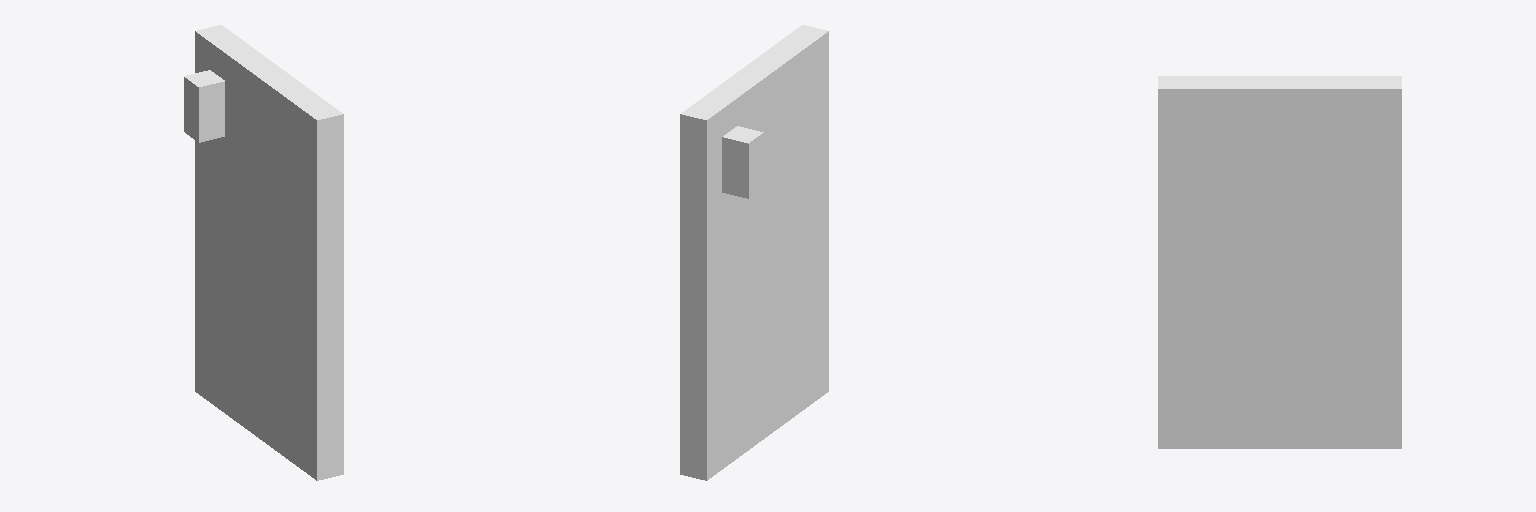
File: Kitchen_cabinets-8.obj
3 views of the same model, side by side, from view 1: azimuth 30°, elevation 25°; view 2: azimuth 150°, elevation 25°; view 3: azimuth 270°, elevation 25° (orthographic).
Parts seen in each view (by area): view 1: object 1; view 2: object 1; view 3: object 1.
Boxes of the visible parts, x1,y1,x2,y2 form: object 1: [184, 25, 343, 480]; object 1: [680, 25, 828, 480]; object 1: [1158, 76, 1401, 448].
Bounding box in the file's own units: 0.2 × 1.3 × 0.8.